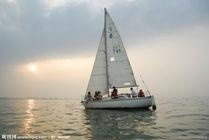fanchuan: (75, 5, 159, 111)
